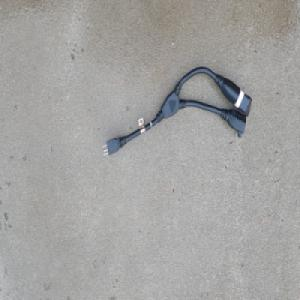Wire: (99, 64, 253, 159)
